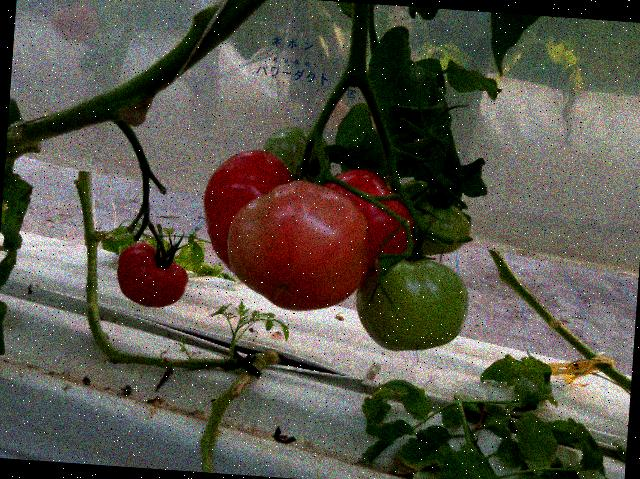b_fully_ripened: (198, 146, 295, 273), (316, 166, 416, 278), (114, 241, 191, 310)
b_green: (351, 251, 471, 356), (391, 178, 473, 259), (259, 124, 332, 186)
b_half_ripened: (222, 175, 374, 316)
